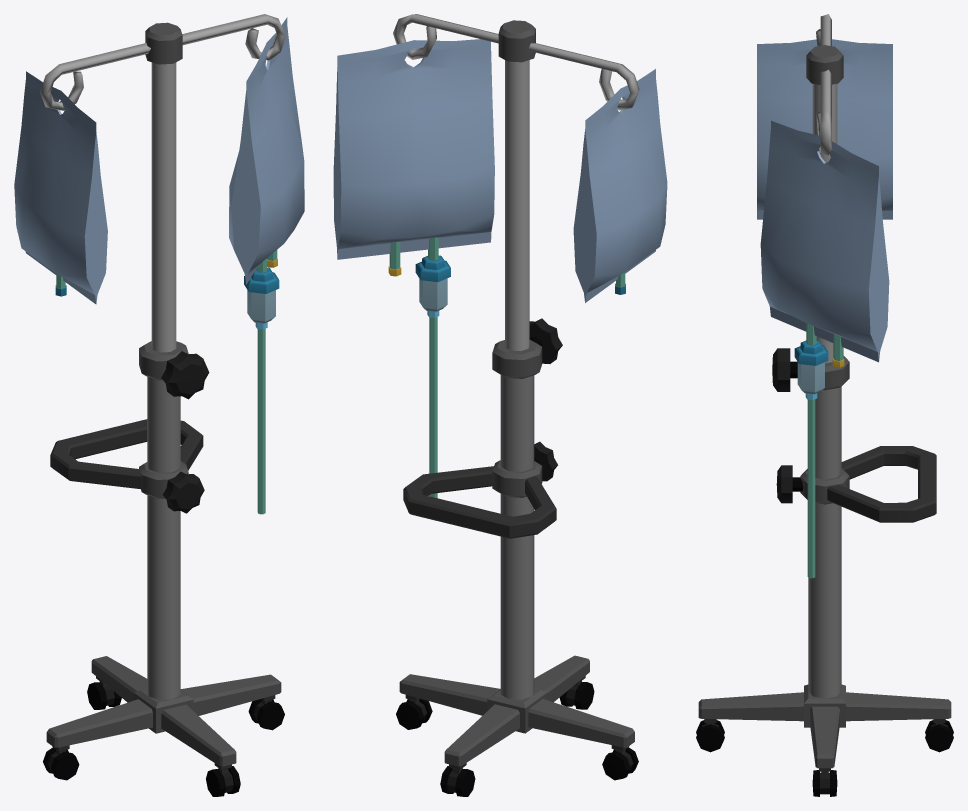
File: IV Stand Drip 01.fbx
3 views of the same model, side by side, from view 1: azimuth 30°, elevation 25°; view 2: azimuth 150°, elevation 25°; view 3: azimuth 270°, elevation 25° (orthographic). The views are drawn at different scales.
Parts seen in each view (by area): view 1: IV_Stand_Drip_01; view 2: IV_Stand_Drip_01; view 3: IV_Stand_Drip_01.
Boxes of the visible parts, x1,y1,x2,y2 form: IV_Stand_Drip_01: (14,14,304,796); IV_Stand_Drip_01: (333,14,667,796); IV_Stand_Drip_01: (696,14,953,796).
Bounding box in the file's own units: 82.09 × 199 × 66.61.
